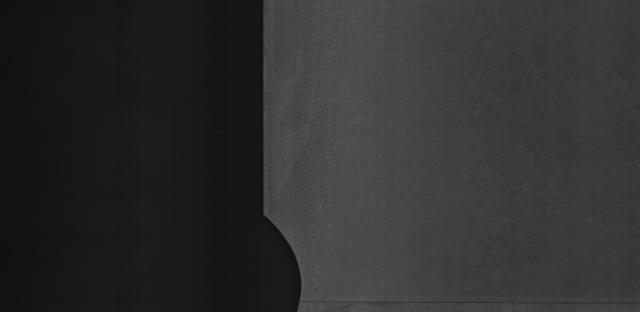crescent_gap: (233, 209, 308, 312)
welding_line: (296, 291, 640, 310)
